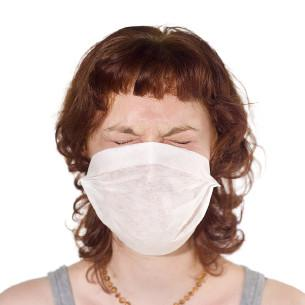OK: (93, 110, 210, 256)
